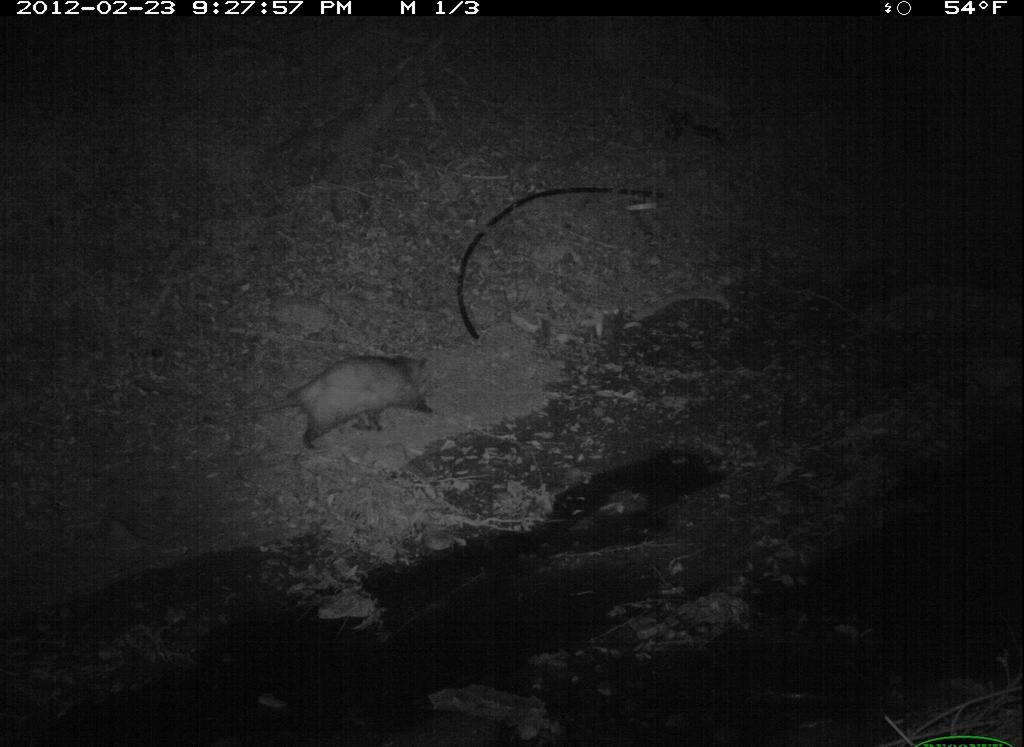opossum: (239, 324, 454, 473)
